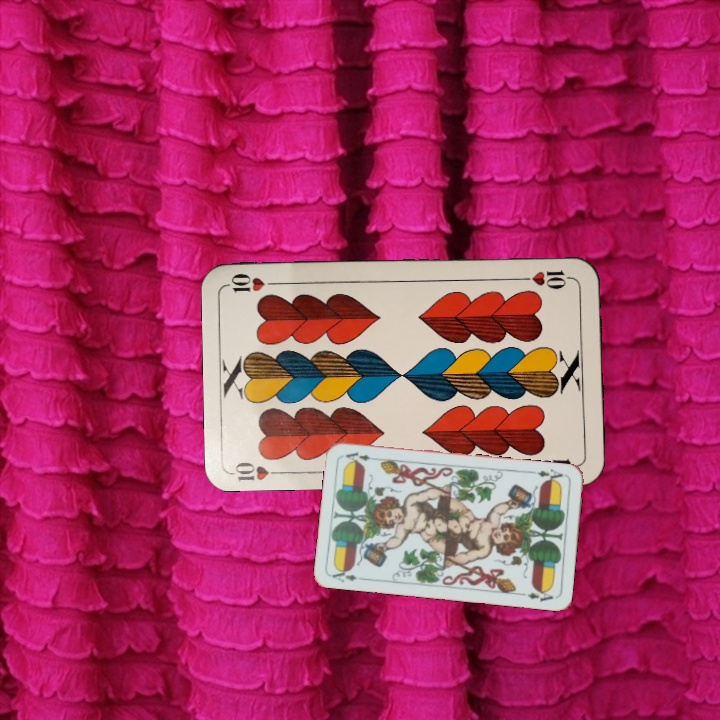EA: (328, 564, 368, 585), (528, 465, 568, 485)
H10: (229, 457, 288, 483), (516, 266, 575, 291)
